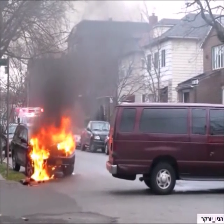fire_h: (29, 138, 54, 181), (52, 113, 76, 153)
